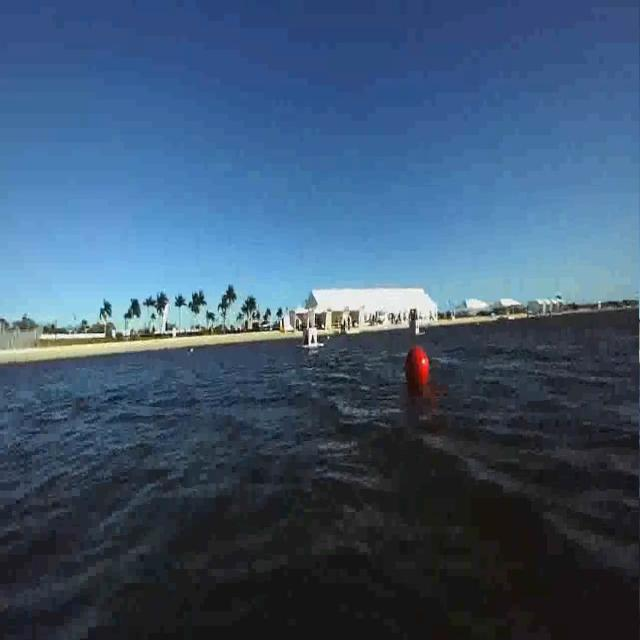red-buoy: (404, 344, 431, 391)
